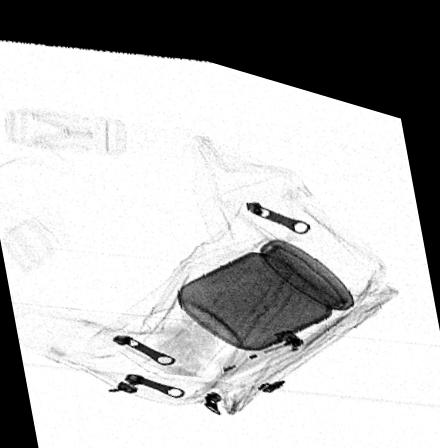Lighter: (211, 311, 304, 362)
